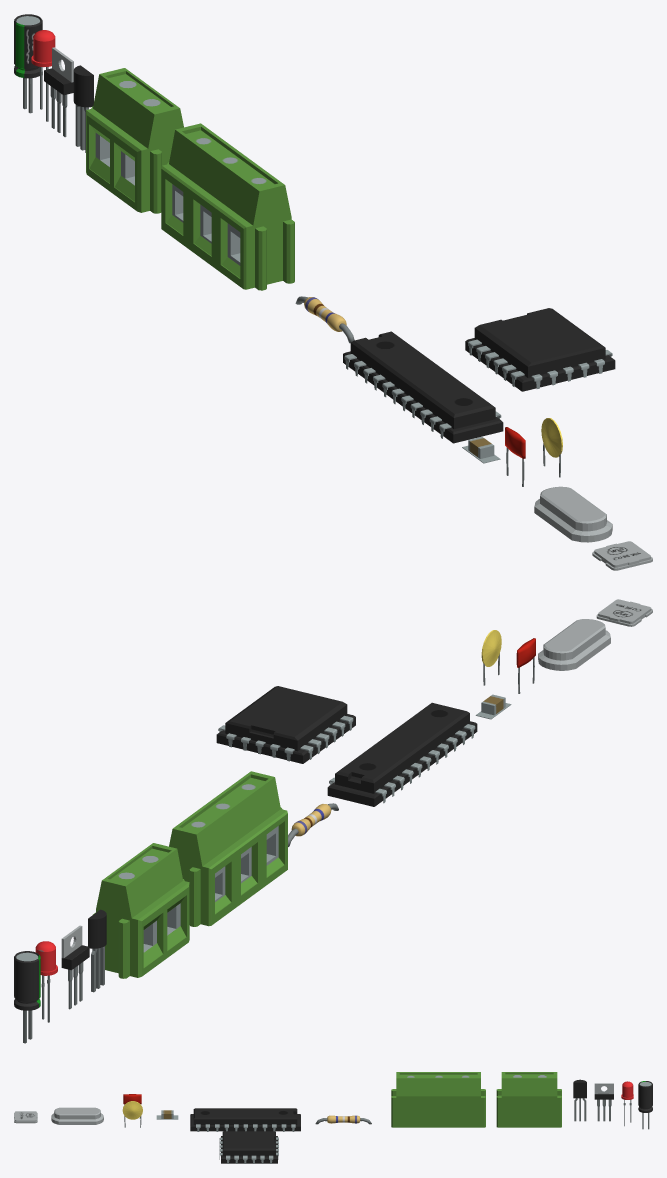
File: computer_parts.glb
3 renders of one model, top to bottom at view 1: azimuth 30°, elevation 25°; view 2: azimuth 150°, elevation 25°; view 3: azimuth 270°, elevation 25°, orthographic. The views are drawn at different scales.
Visible parts, largest first — view 1: Connector 2, connector 1, Processor, Processor.001, Crystal oscillator, Side pillar 2, head.002, Cube, feet.004, Head, head.001; view 2: Connector 2, connector 1, Processor, Processor.001, Crystal oscillator, head.002, Cube, feet.004, Head, side pillars, Side pillar 2, head.001; view 3: Connector 2, connector 1, Processor, Processor.001, Crystal oscillator, head.002, Side pillar 2, side pillars, feet.004, Head, cicle head, Cube (+8 smaller).
Boxes of the visible parts, x1,y1,x2,y2 form: Connector 2: (161,123,291,289); connector 1: (86,68,183,212); Processor: (343,331,503,443); Processor.001: (465,308,615,391); Crystal oscillator: (534,486,612,542); Side pillar 2: (167,162,294,290); head.002: (14,14,42,78); Cube: (592,541,652,570); feet.004: (344,354,501,438); Head: (44,47,73,95); head.001: (73,65,93,107); Connector 2: (169,771,287,926); connector 1: (96,843,189,977); Processor: (327,702,477,806); Processor.001: (216,686,355,763); Crystal oscillator: (538,619,610,670); head.002: (14,951,40,1010); Cube: (596,599,652,626); feet.004: (329,724,475,803); Head: (61,925,89,970); side pillars: (93,879,184,978); Side pillar 2: (189,807,282,926); head.001: (88,909,106,948); Connector 2: (396,1072,480,1127); connector 1: (501,1072,557,1127); Processor: (190,1108,300,1131); Processor.001: (221,1131,277,1163); Crystal oscillator: (51,1107,103,1124); head.002: (638,1081,652,1112); Side pillar 2: (391,1089,485,1127); side pillars: (496,1089,561,1127); feet.004: (196,1124,295,1131); Head: (594,1083,613,1099); cicle head: (122,1101,142,1119); Cube: (14,1111,37,1123).
Size of the model in its own units: 10.29 by 4.94 by 54.13.
Materials: 1 (1 with a texture image).
